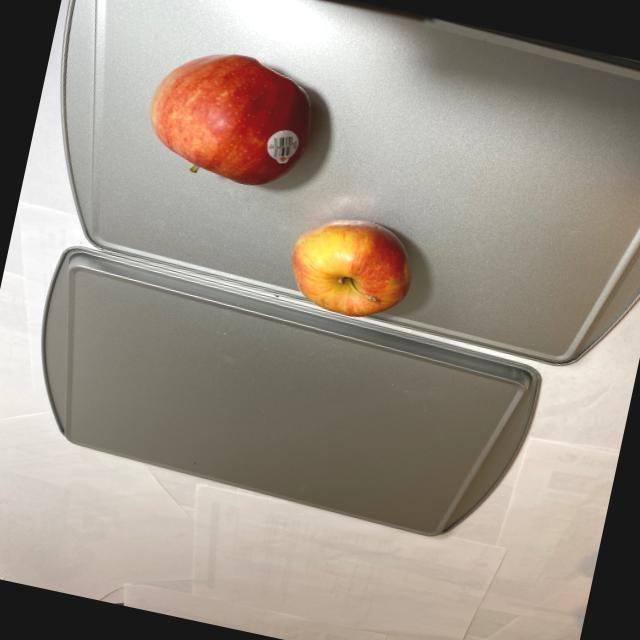apple: (136, 39, 326, 206), (276, 205, 428, 328)
